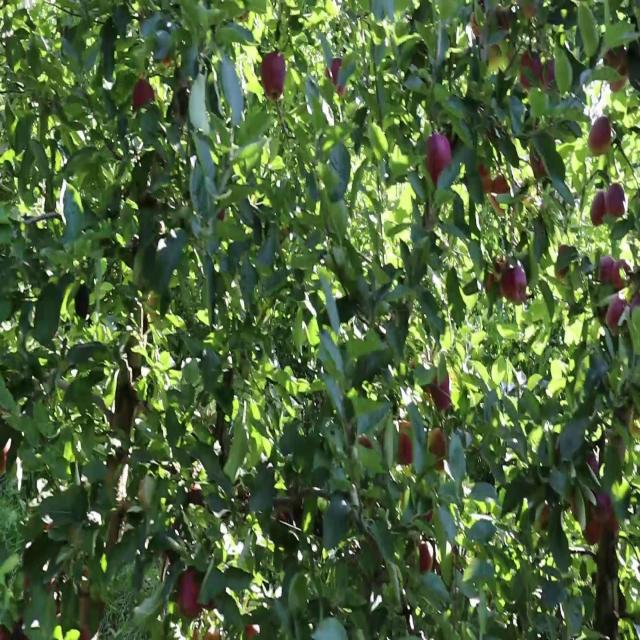apple: (588, 490, 619, 546), (428, 135, 453, 185), (180, 568, 203, 620), (520, 56, 552, 92), (480, 170, 510, 206), (604, 49, 629, 92), (264, 56, 287, 98), (480, 163, 508, 197), (588, 120, 612, 158), (428, 376, 452, 412), (504, 270, 528, 306), (520, 56, 541, 92), (608, 184, 627, 220), (492, 177, 511, 213), (428, 426, 448, 460), (400, 426, 415, 468), (608, 298, 626, 332), (136, 78, 156, 108), (540, 56, 556, 91), (592, 191, 607, 228), (612, 263, 631, 292), (492, 177, 510, 206), (332, 63, 346, 98), (420, 540, 433, 576), (600, 255, 615, 286), (480, 163, 494, 194), (472, 14, 488, 41), (556, 248, 568, 283), (540, 504, 551, 530), (588, 455, 601, 475), (484, 277, 497, 295), (524, 7, 539, 21), (632, 291, 640, 313), (4, 447, 10, 468), (360, 440, 372, 450)
